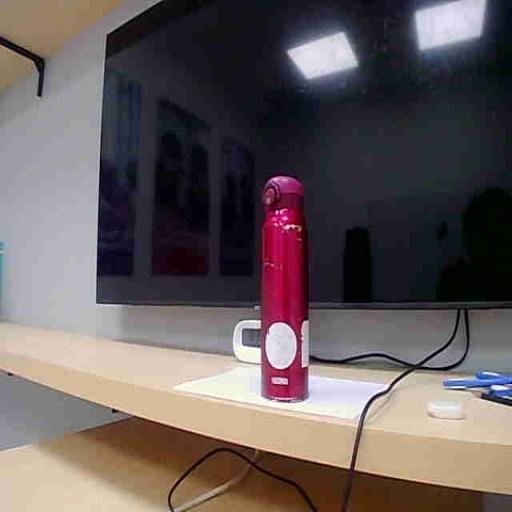bottle: (261, 176, 308, 401)
